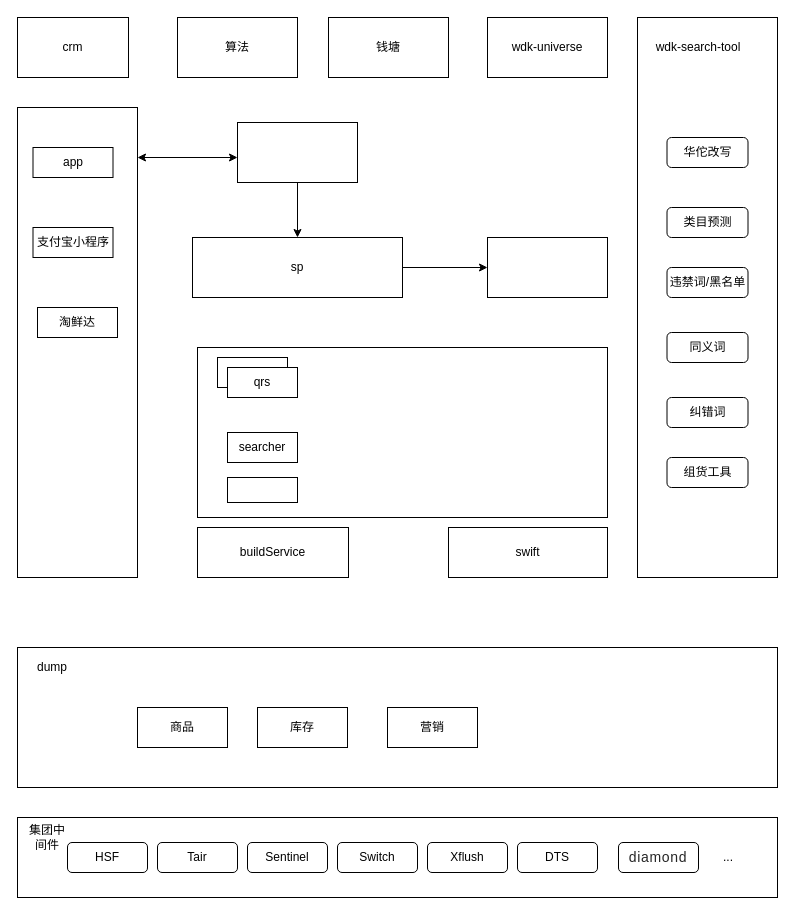
This 795x915 diagram has some shape labels left out. The shapes that lost their labels are listed below. From the top down, each one's centre as x and y in pixels, then its label:
At pixel 297 152: "wdk-search".
At pixel 547 267: "igraph".
At pixel 262 489: "summary".
